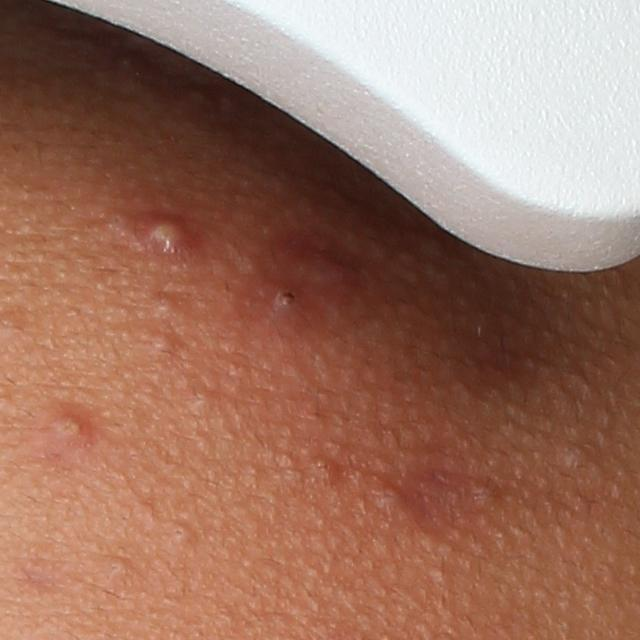comedo: (559, 444, 596, 477), (149, 288, 182, 320), (165, 521, 195, 549), (148, 331, 180, 357), (106, 553, 133, 580), (191, 390, 214, 413)
papule: (290, 238, 368, 302), (265, 277, 307, 320)
pustule: (133, 209, 198, 263), (43, 411, 87, 447)
